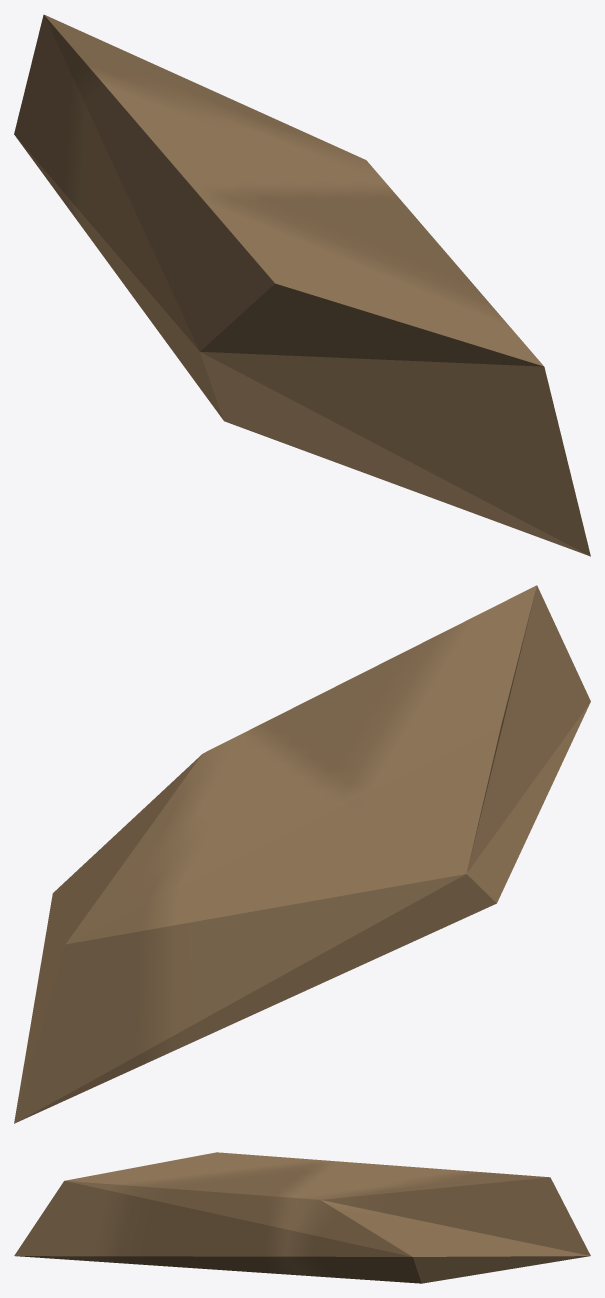
Rendered from SM_FX_Wood_Shard_02.fbx.
3 views of the same model, one above another, from view 1: azimuth 30°, elevation 25°; view 2: azimuth 150°, elevation 25°; view 3: azimuth 270°, elevation 25° (orthographic). The views are drawn at different scales.
Visible parts, largest first — view 1: SM_FX_Wood_Shard_02; view 2: SM_FX_Wood_Shard_02; view 3: SM_FX_Wood_Shard_02.
Part boxes in pixels (<box>): SM_FX_Wood_Shard_02: <box>14,14,590,556</box>; SM_FX_Wood_Shard_02: <box>14,585,590,1123</box>; SM_FX_Wood_Shard_02: <box>14,1152,590,1283</box>.
Bounding box in the file's own units: 12.53 × 6.61 × 45.39.
